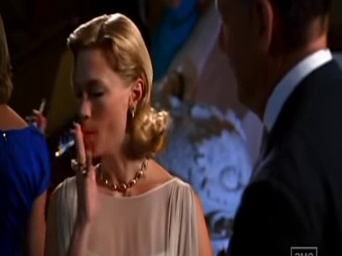smoke: (54, 137, 77, 156)
